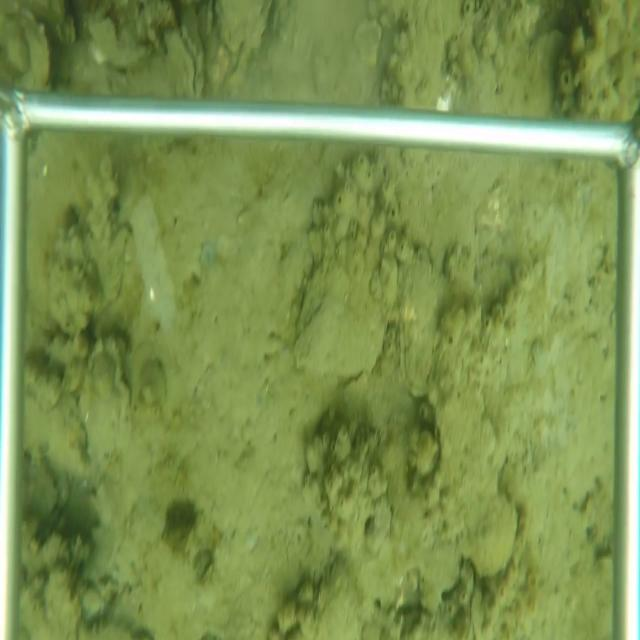Oyster-Closed: (395, 242, 455, 403), (78, 335, 135, 493), (165, 10, 206, 97), (458, 584, 485, 639)
Oyster-Indeterminate: (294, 155, 404, 379), (302, 552, 365, 638), (17, 8, 53, 94)
